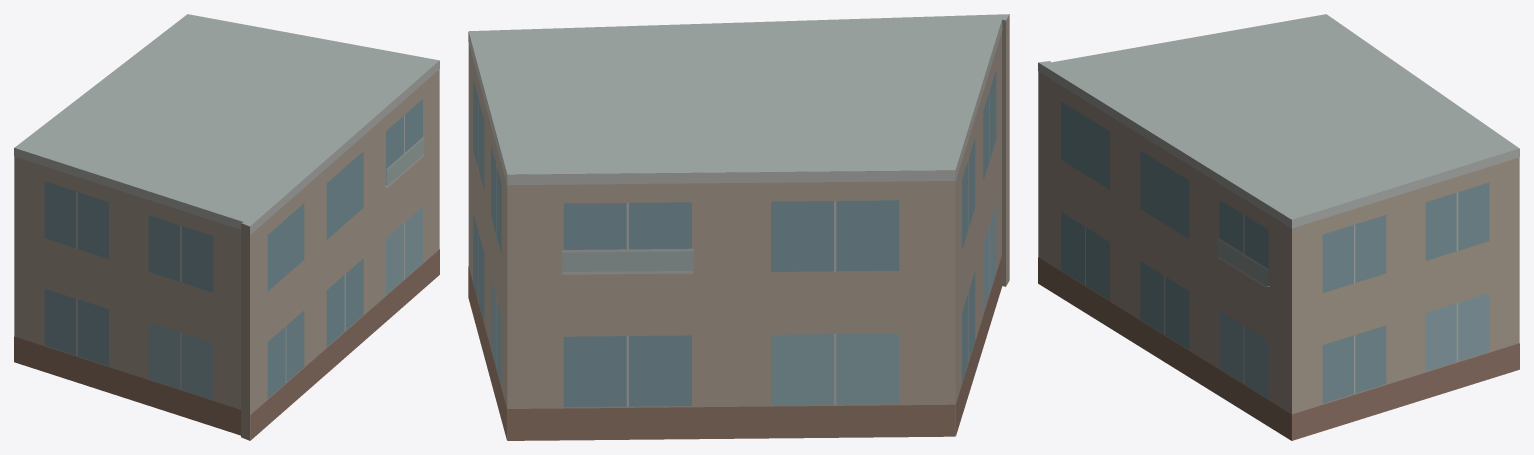
The model's file is survey-upis-32787311.glb.
The picture shows the model from 3 angles, left to right: view 1: azimuth 30°, elevation 25°; view 2: azimuth 150°, elevation 25°; view 3: azimuth 270°, elevation 25°; orthographic projection. The views are drawn at different scales.
Parts seen in each view (by area): view 1: survey-upis-32787311.tmp; view 2: survey-upis-32787311.tmp; view 3: survey-upis-32787311.tmp.
Part boxes in pixels (bbox=[...]): survey-upis-32787311.tmp: bbox=[14, 14, 439, 440]; survey-upis-32787311.tmp: bbox=[468, 14, 1009, 440]; survey-upis-32787311.tmp: bbox=[1038, 14, 1519, 440].
Size of the model in its own units: 12.18 by 6.1 by 12.05.
